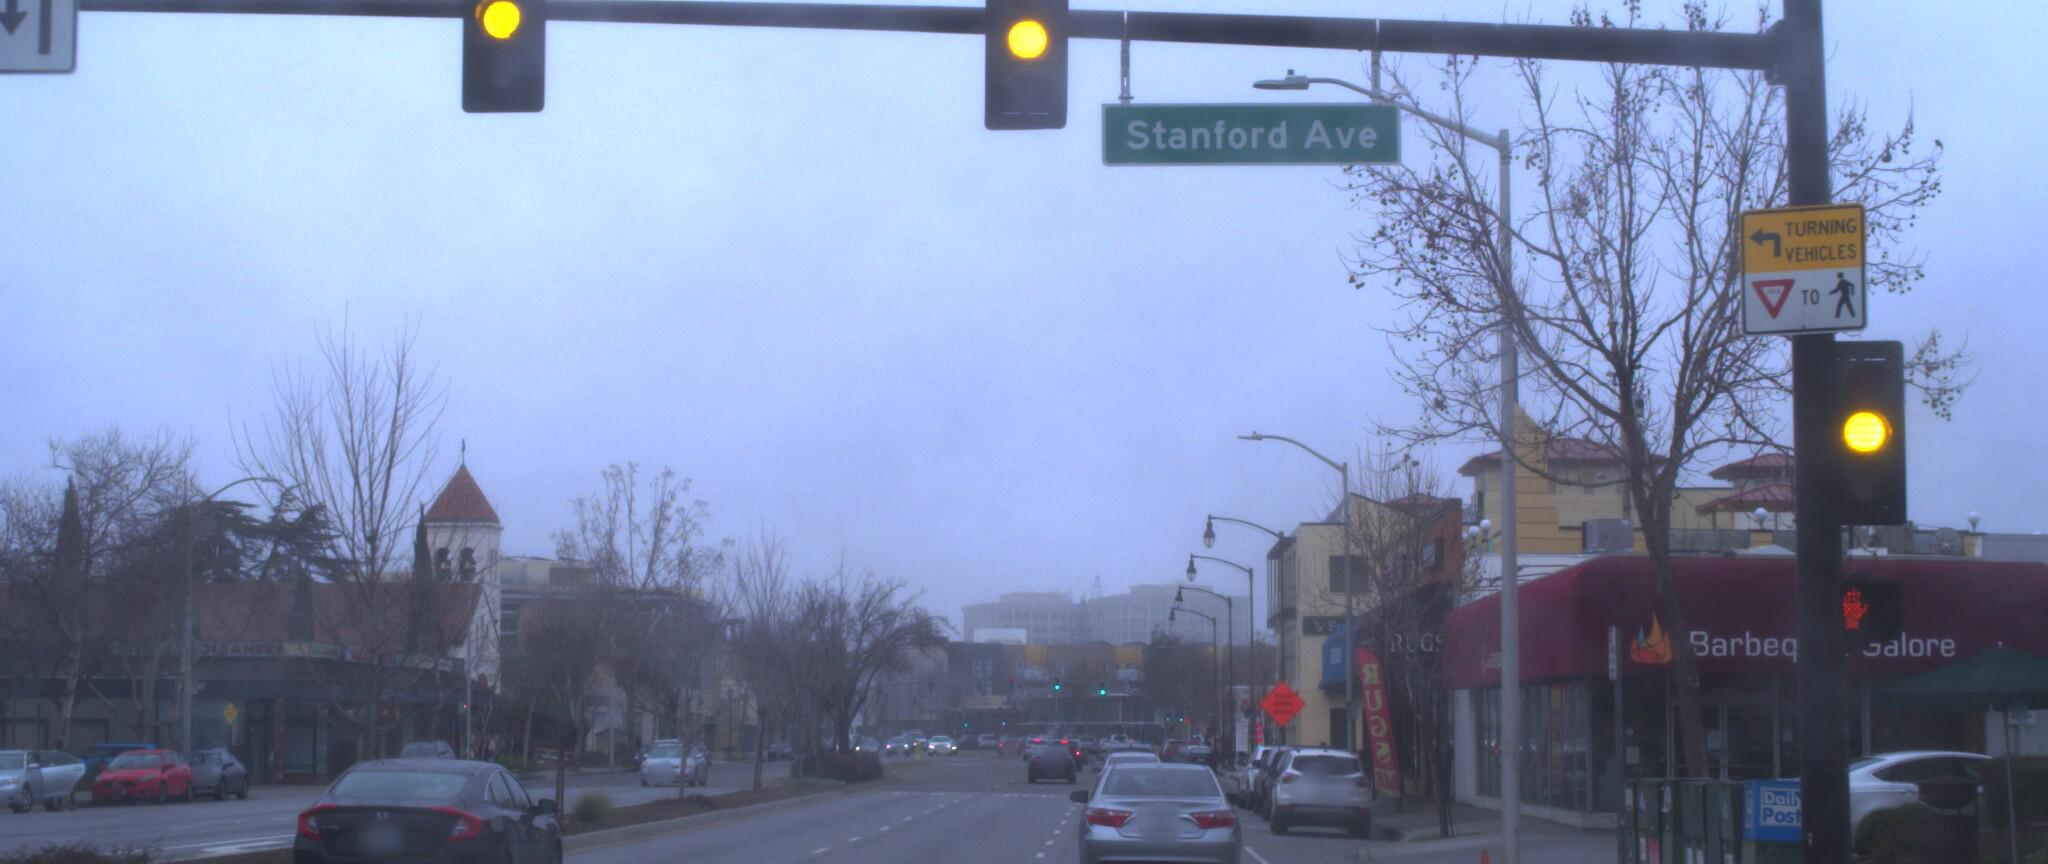car: (257, 740, 579, 864), (1736, 744, 2048, 864), (1059, 730, 1242, 864), (1264, 737, 1374, 833), (88, 740, 200, 801)
